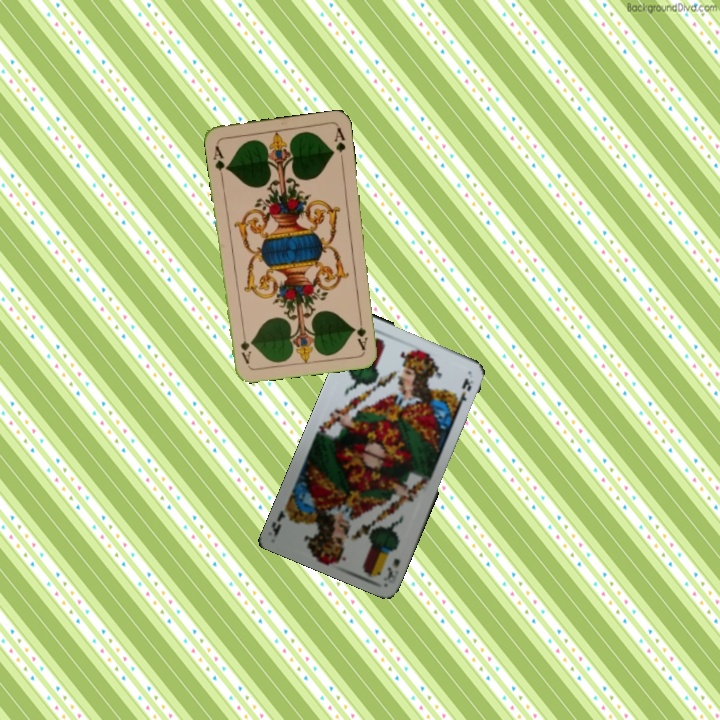EK: (383, 554, 403, 585)
GA: (209, 140, 230, 180), (353, 312, 370, 353)
